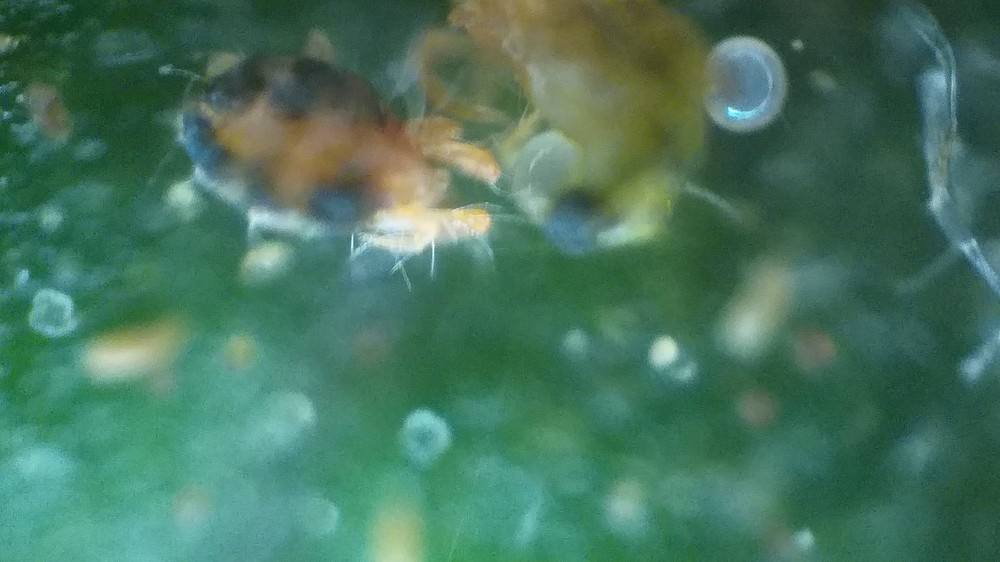Aracnido Rojo: (174, 48, 516, 280), (429, 3, 731, 252)
